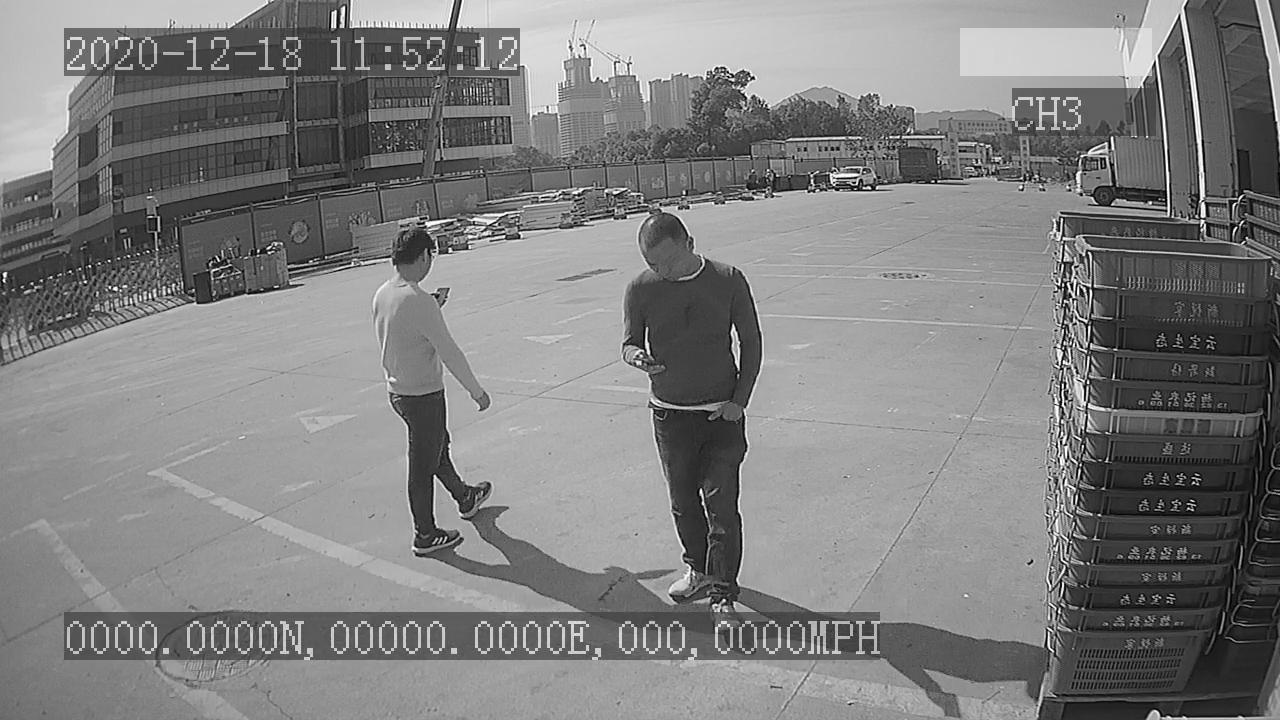person: (365, 219, 499, 570)
